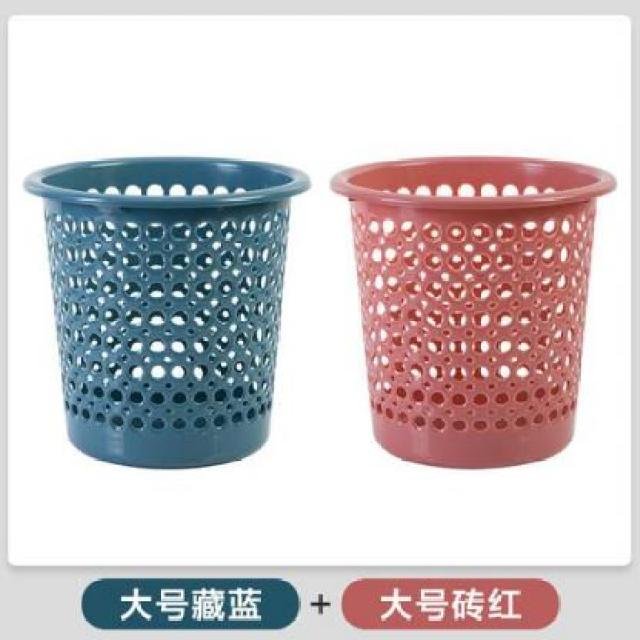dustbin: (324, 150, 622, 476), (20, 152, 313, 472)
